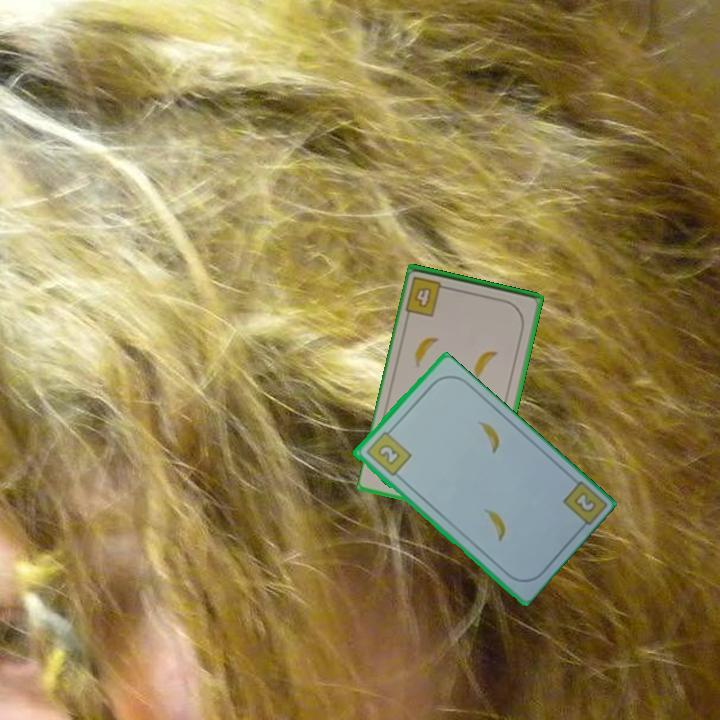2b: (362, 425, 414, 479), (570, 488, 600, 516)
4b: (402, 273, 453, 319)
